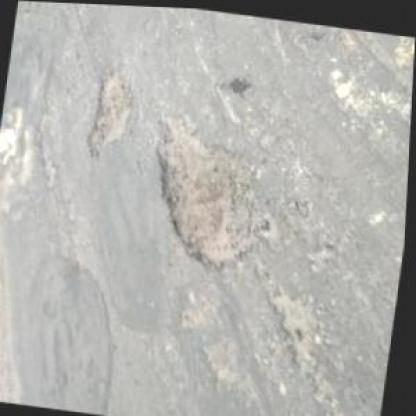pothole: (139, 107, 283, 268), (83, 61, 136, 157)
